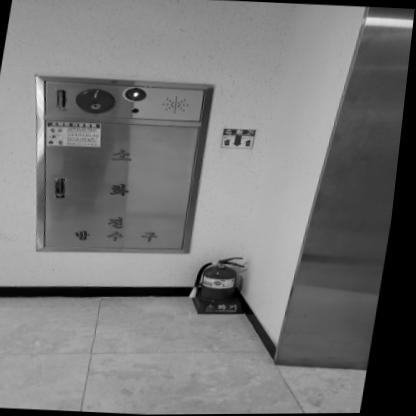FE: (196, 252, 259, 317)
